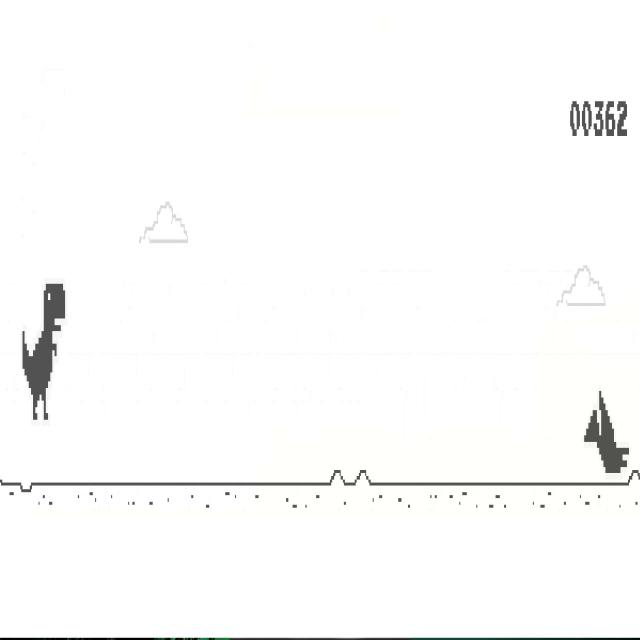dino: (22, 283, 66, 421)
ptero: (583, 388, 630, 474)
